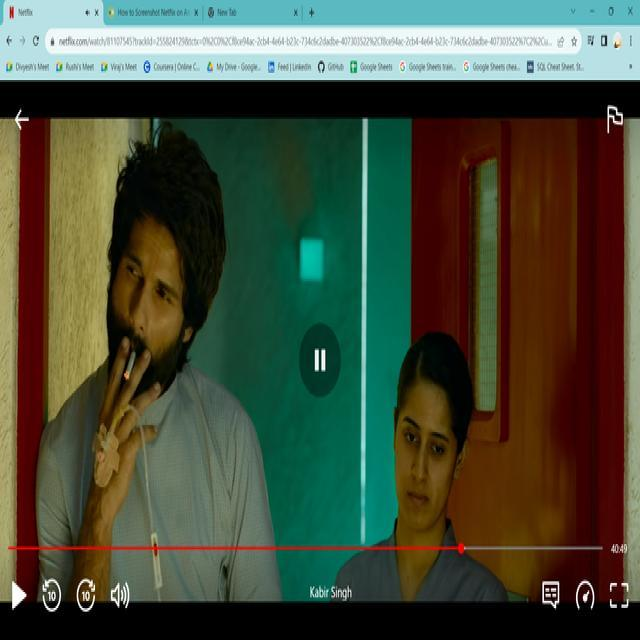smoking: (120, 342, 140, 389)
